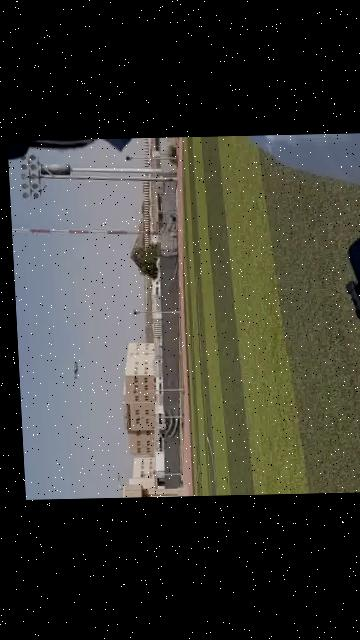drone: (63, 355, 80, 383)
